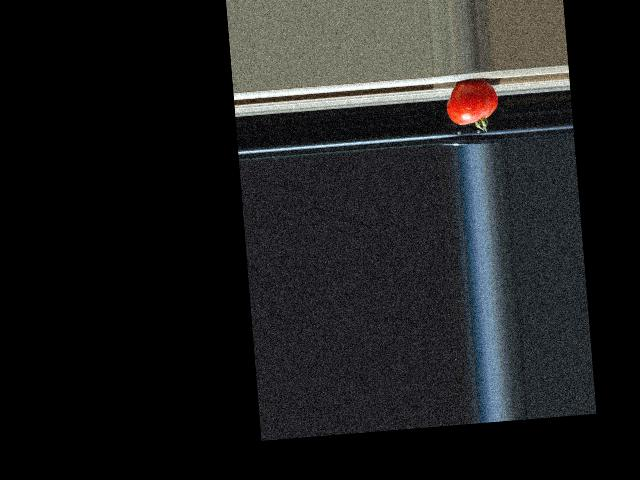tomato: (445, 78, 500, 135)
